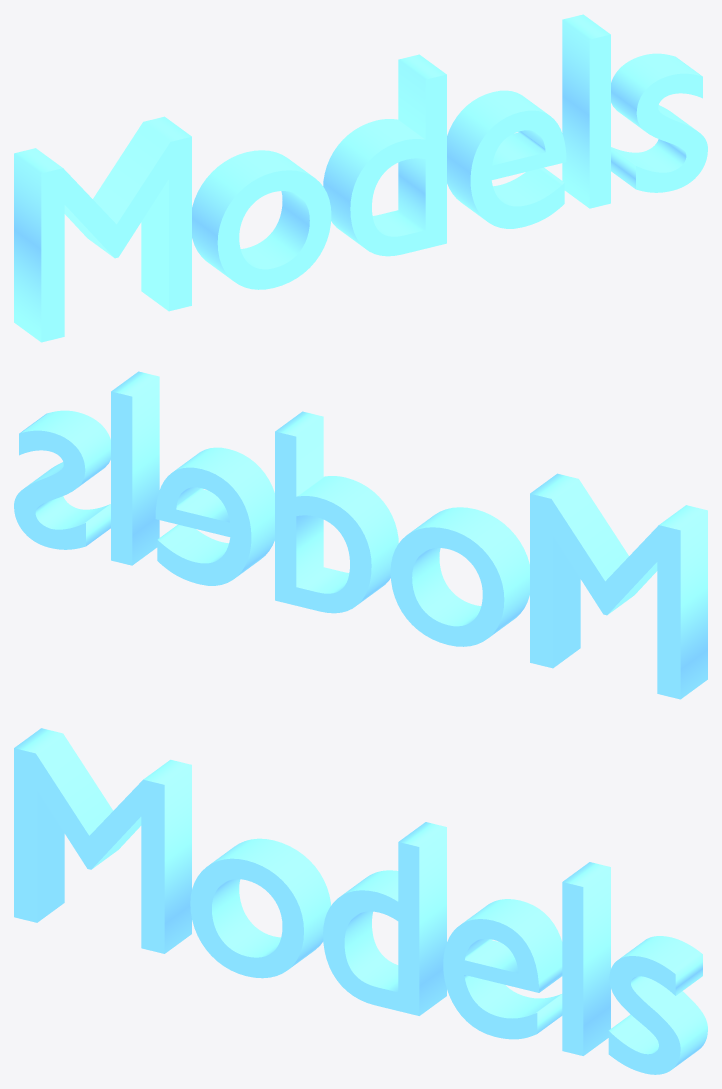
Rendered from Models_title.fbx.
The picture shows the model from 3 angles, top to bottom: view 1: azimuth 30°, elevation 25°; view 2: azimuth 150°, elevation 25°; view 3: azimuth 330°, elevation 25°; orthographic projection.
Visible parts, largest first — view 1: Text; view 2: Text; view 3: Text.
Boxes of the visible parts, <box> form: Text: <box>14,14,707,342</box>; Text: <box>14,371,707,699</box>; Text: <box>14,728,707,1074</box>.
Bounding box in the file's own units: 281 × 69.1 × 20.
